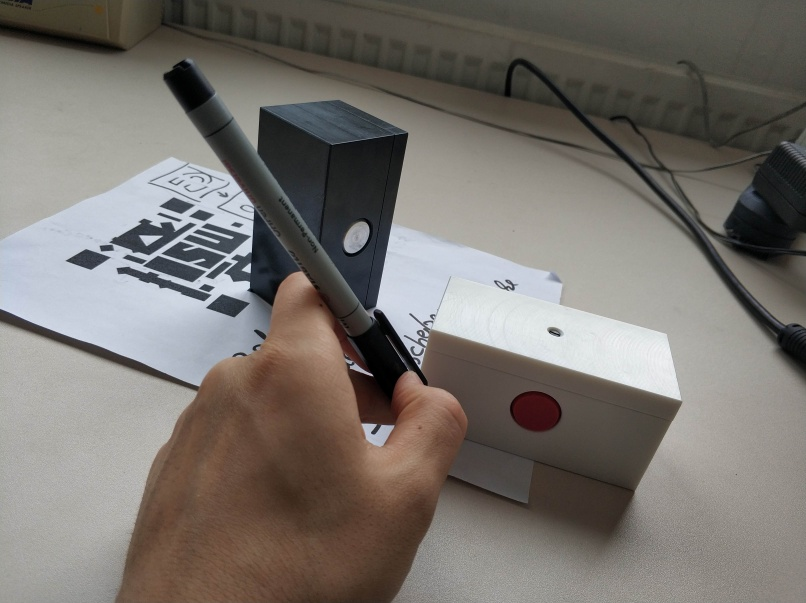black+black+silver: (239, 96, 412, 313)
white+white+red: (414, 275, 687, 495)
